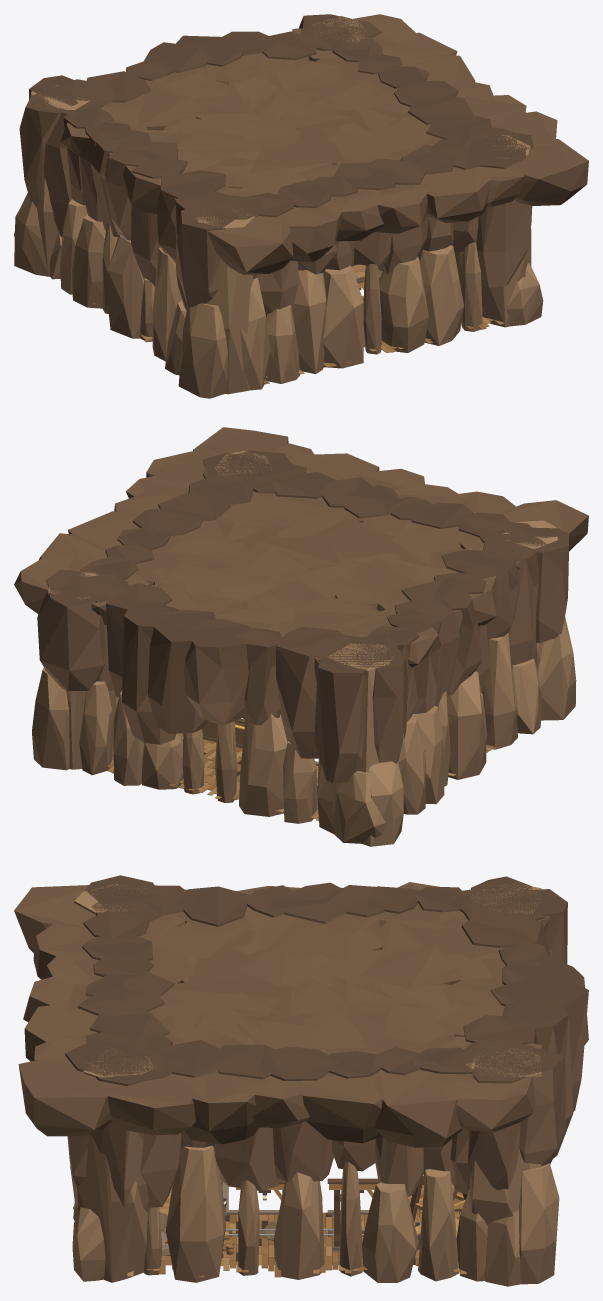
File: old-mine-hall.glb
3 views of the same model, one above another, from view 1: azimuth 30°, elevation 25°; view 2: azimuth 150°, elevation 25°; view 3: azimuth 270°, elevation 25° (orthographic). The views are drawn at different scales.
Visible parts, largest first — view 1: Batched static valley; view 2: Batched static valley; view 3: Batched static valley.
Boxes of the visible parts, x1=… form: Batched static valley: x1=14, y1=14, x2=588, y2=398; Batched static valley: x1=14, y1=427, x2=588, y2=846; Batched static valley: x1=14, y1=875, x2=588, y2=1286.
Size of the model in its own units: 52.95 by 21.6 by 55.68.
Materials: 7 (2 with a texture image).
